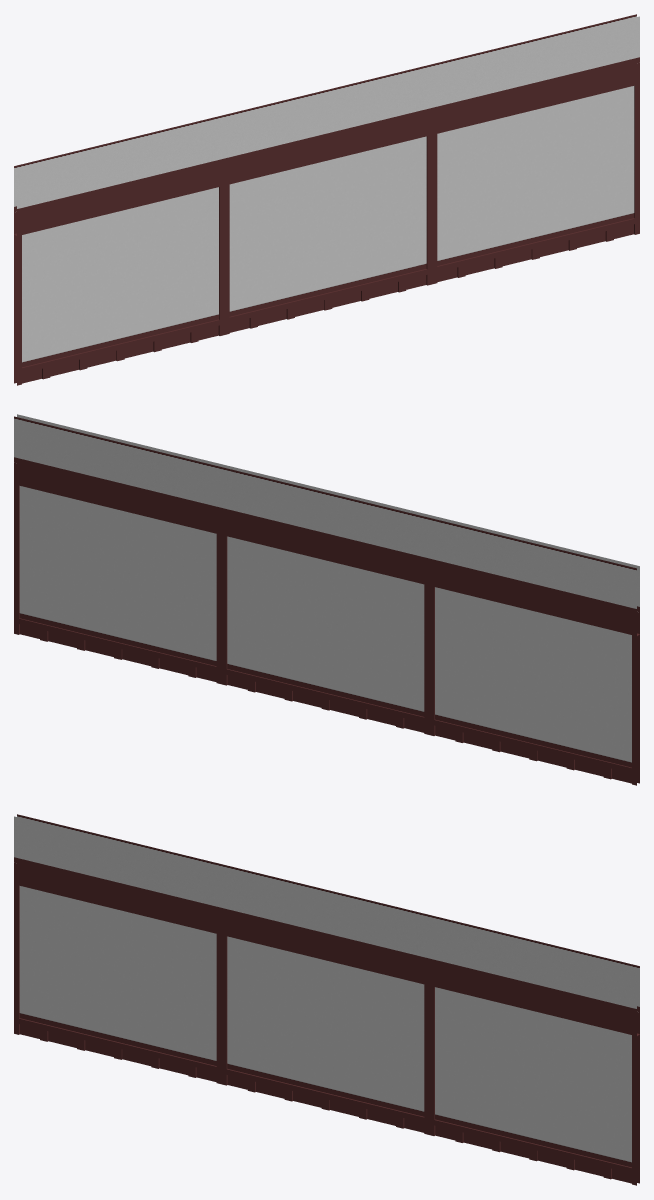
The model's file is living_room_wall_001.fbx.
3 views of the same model, one above another, from view 1: azimuth 30°, elevation 25°; view 2: azimuth 150°, elevation 25°; view 3: azimuth 330°, elevation 25° (orthographic).
Visible parts, largest first — view 1: living_room_wall_001; view 2: living_room_wall_001; view 3: living_room_wall_001.
Boxes of the visible parts, box(x1,y1,x2,y2) form: living_room_wall_001: box(14, 14, 639, 385); living_room_wall_001: box(14, 414, 639, 785); living_room_wall_001: box(14, 814, 639, 1185).
Size of the model in its own units: 1200 by 400 by 10.
